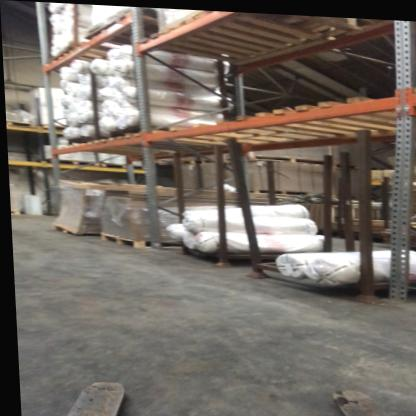vertical_damage: (370, 276, 410, 304), (146, 232, 168, 254)
